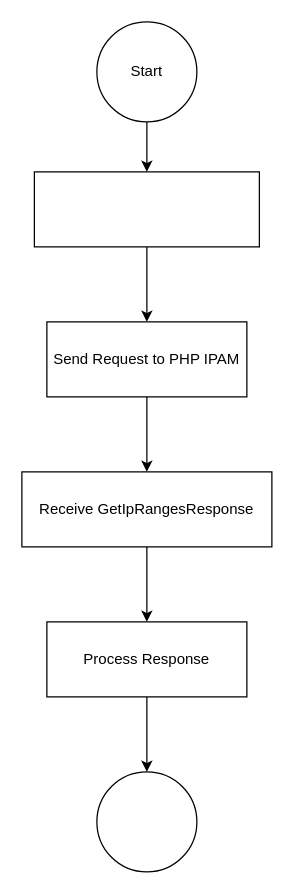
Image size: 294x894. Some labels were removed from this diagram. The centre of each missing label's shape, as x and y in pixels:
"Create GetIpRangesRequest" goes at point (146, 209).
"End" goes at point (146, 821).
